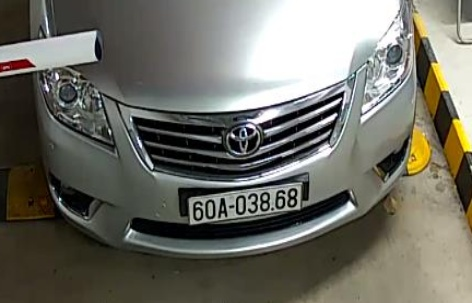plate: (182, 182, 311, 230)
